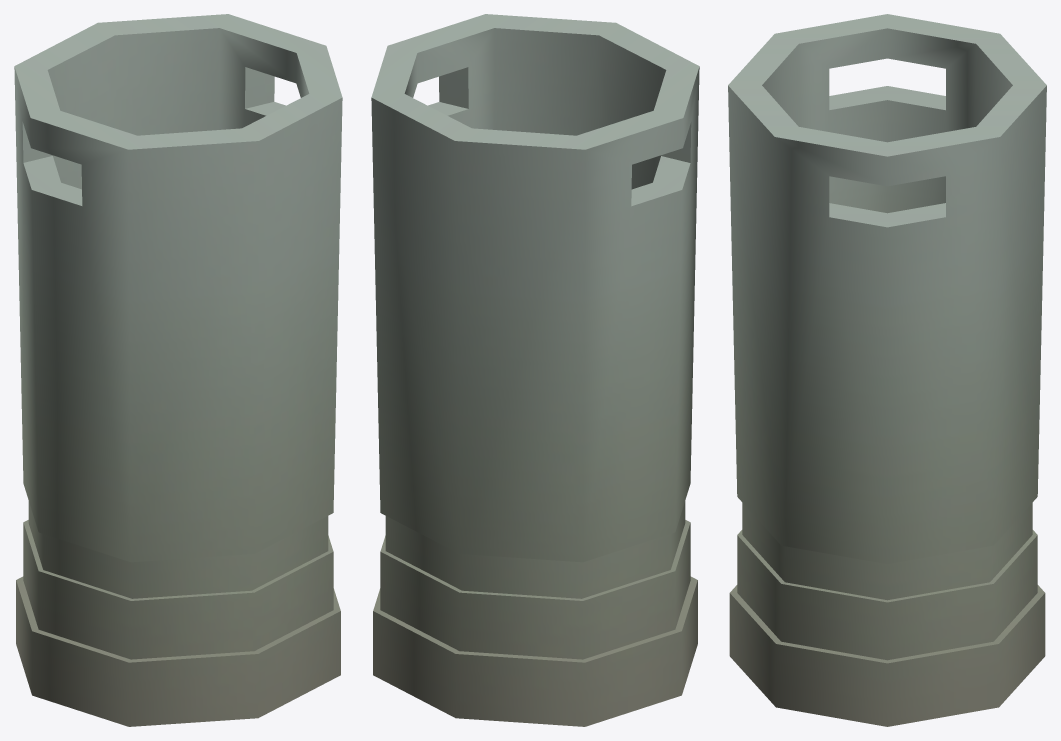
The model's file is SM_Umbrella_Holder_1_03.fbx.
The picture shows the model from 3 angles, left to right: view 1: azimuth 30°, elevation 25°; view 2: azimuth 150°, elevation 25°; view 3: azimuth 270°, elevation 25°; orthographic projection.
Parts seen in each view (by area): view 1: SM_Umbrella_Holder_1_03; view 2: SM_Umbrella_Holder_1_03; view 3: SM_Umbrella_Holder_1_03.
Part boxes in pixels (x1,y1,x2,y2): SM_Umbrella_Holder_1_03: (14, 14, 342, 726); SM_Umbrella_Holder_1_03: (371, 14, 699, 726); SM_Umbrella_Holder_1_03: (728, 14, 1046, 726).
Size of the model in its own units: 46 by 85.86 by 43.46.
